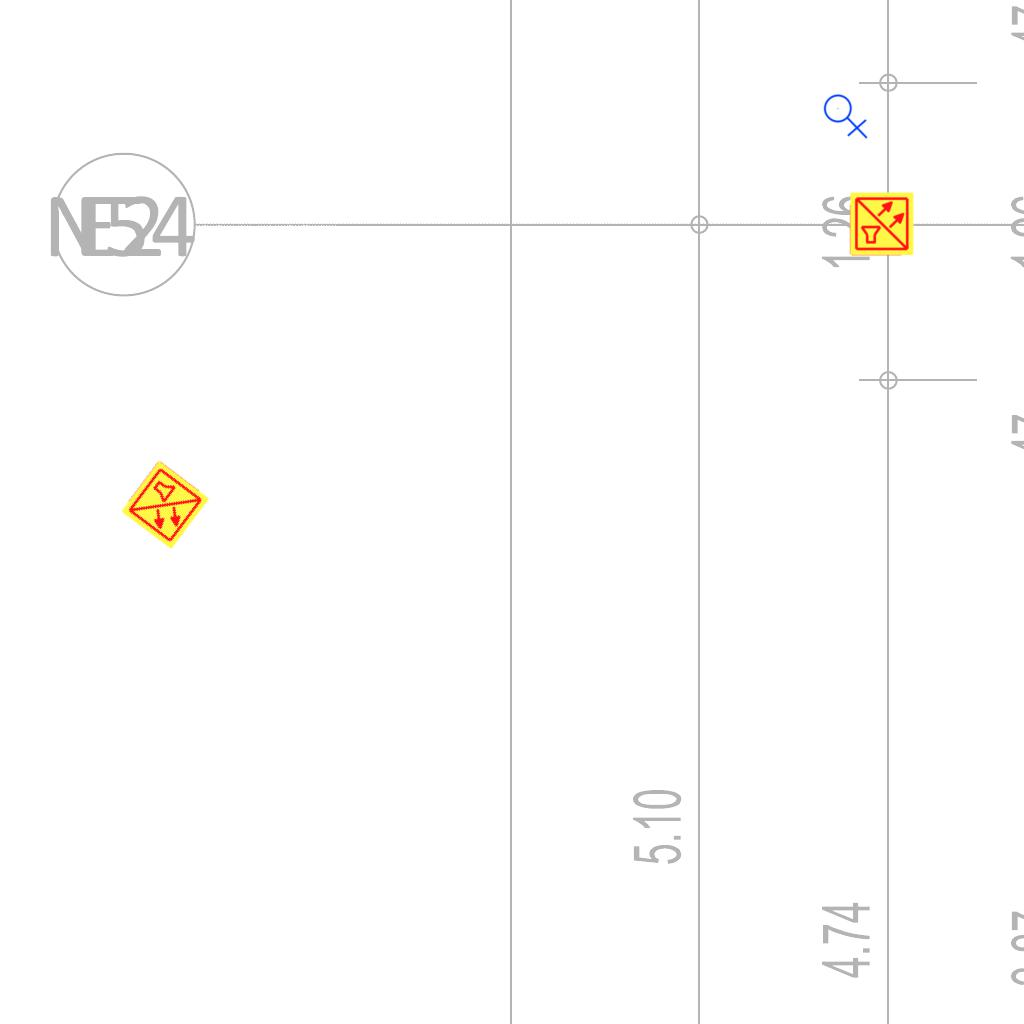Elektroanschluss_allgemein_230V_Geraeteanschlussdose_230V: (823, 90, 870, 139)
OKW_Multisensormelder_(Kombination_optischer_Rauch-Kahlenmonoxid_Waerme-Melder): (118, 458, 212, 552), (849, 191, 915, 257)
